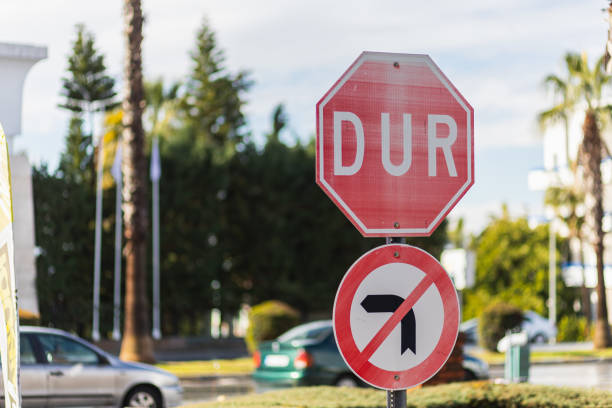dur: (320, 50, 484, 240)
sola_girilmez: (330, 246, 467, 395)
